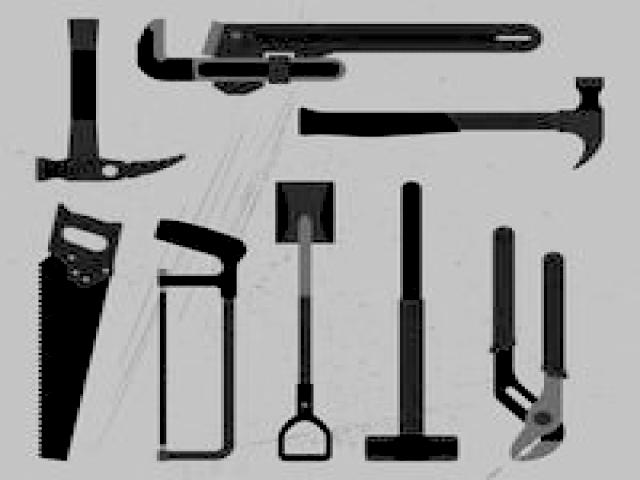Backsaw: (156, 221, 246, 461)
Gas wrench: (492, 227, 565, 461)
Hammer: (300, 78, 604, 170), (366, 182, 458, 461), (36, 20, 184, 182)
Handsaw: (39, 205, 121, 460)
